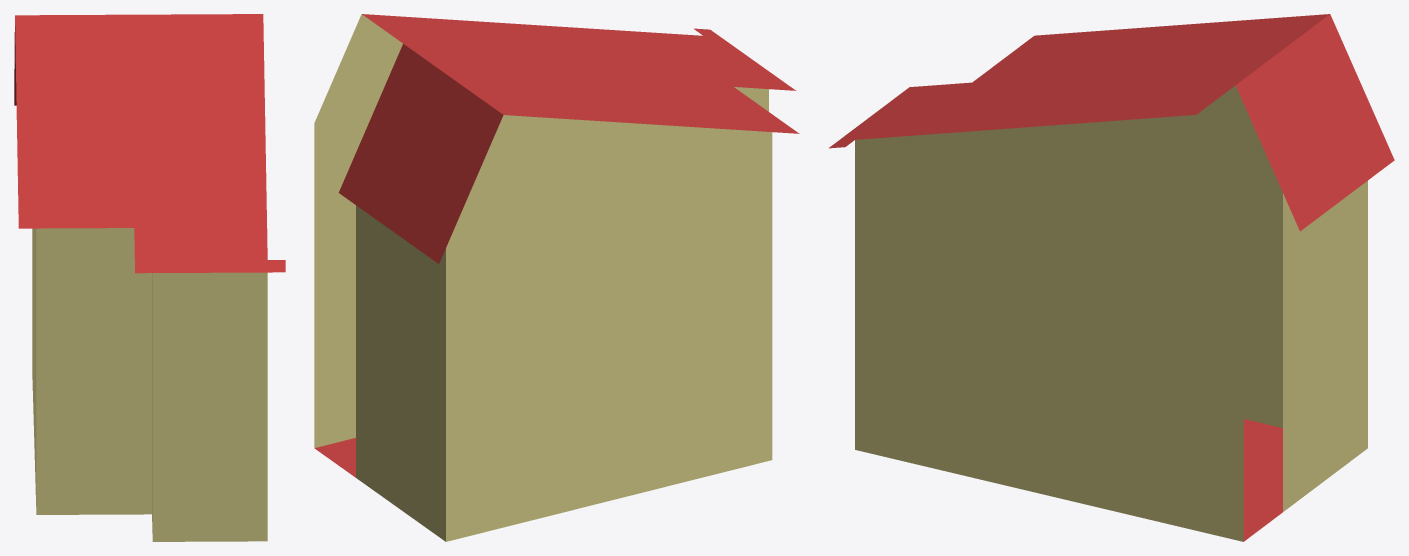
3 renders of one model, left to right at view 1: azimuth 30°, elevation 25°; view 2: azimuth 150°, elevation 25°; view 3: azimuth 270°, elevation 25°, orthographic. The views are drawn at different scales.
Size of the model in its own units: 10.94 by 14.38 by 11.65.
